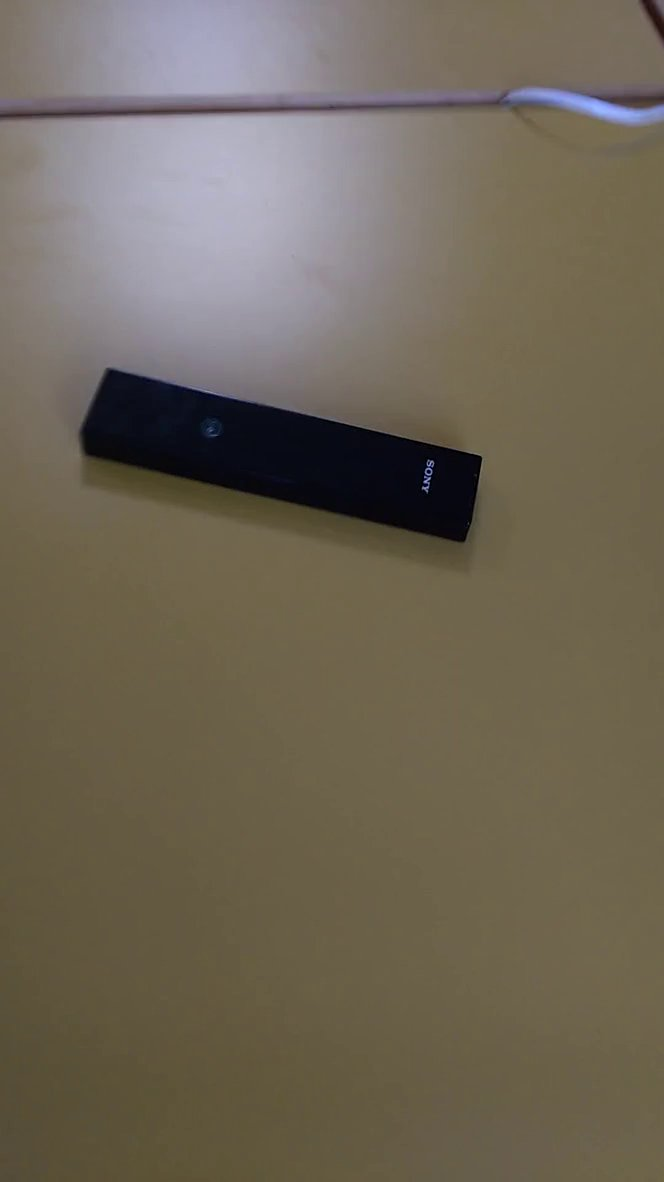remote: (62, 353, 505, 559)
